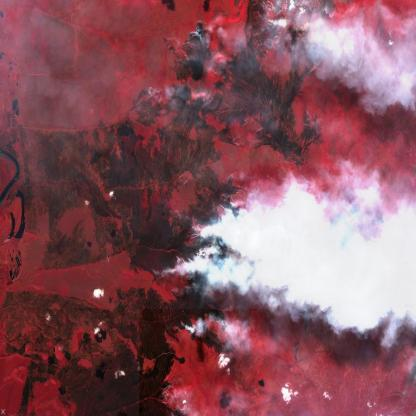fire: (124, 0, 330, 416)
